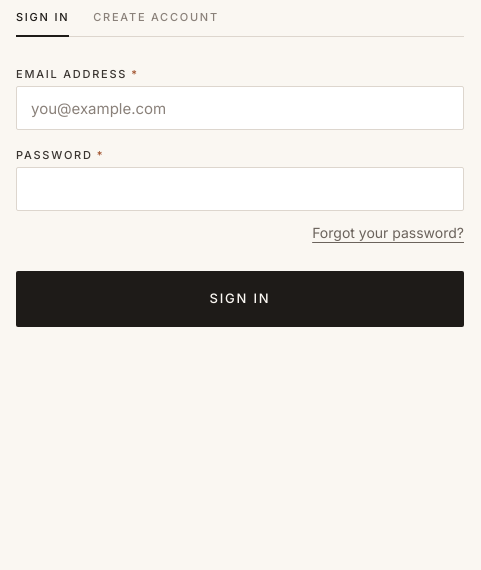
Test: AuthPanel › mode switching › switches to Create account and shows its extra fields
The image size is (481, 570).
Click the button "Create account". click: (156, 24)
box: [93, 12, 219, 37]
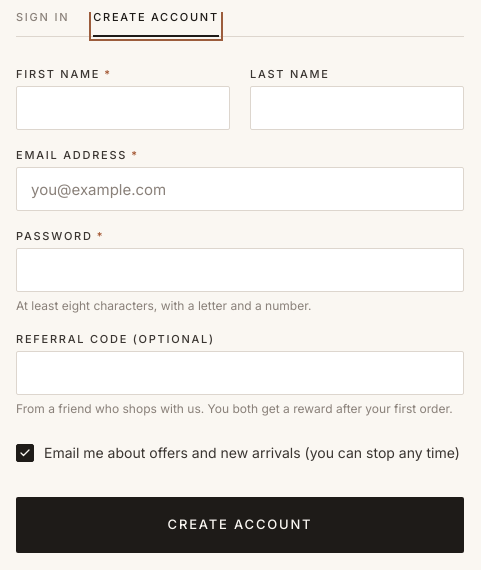
Result: the text "At least eight characters, with a letter and a number." is shown at [16, 298, 311, 313]
Result: the field labelled "Referral code (optional)" is shown at [16, 351, 464, 395]
Result: the checkbox labelled "Email me about offers" is checked at [16, 444, 34, 462]
